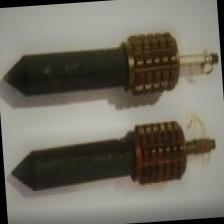POMZ2: (6, 108, 222, 202), (0, 19, 222, 110)
